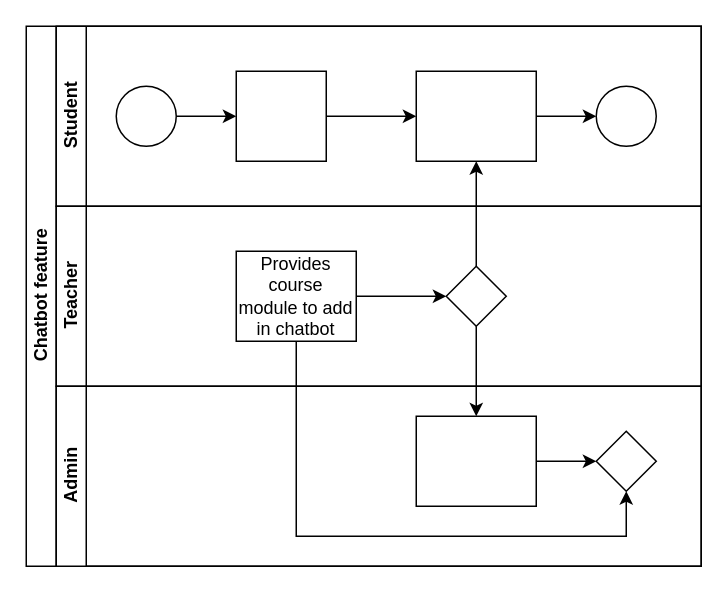
Some shapes in this 728 by 593 pixel diagram are drawn without their labels. The centre of each missing label's shape, as x and y in pixels:
"Asks question to chatbot" goes at (475,115).
"Requires help" goes at (280,115).
"Sets instruction to run chatbot" goes at (475,460).
